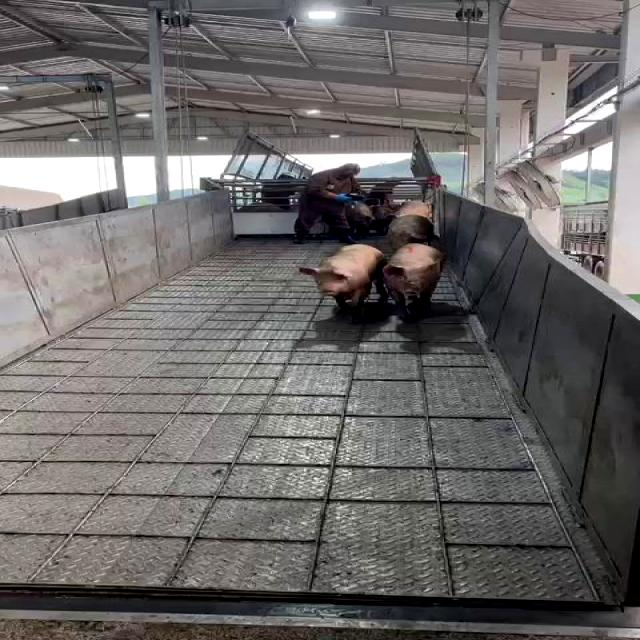pig: (300, 244, 385, 322), (383, 244, 444, 318)
